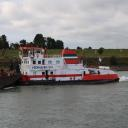tugboat: (10, 42, 122, 89)
